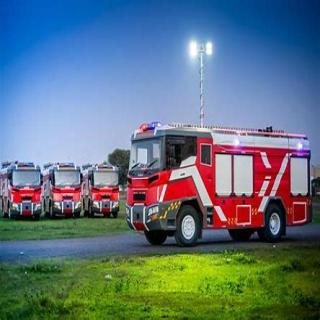Fire_truck: (125, 120, 313, 246), (0, 159, 42, 219), (41, 160, 81, 218), (80, 162, 120, 218)
